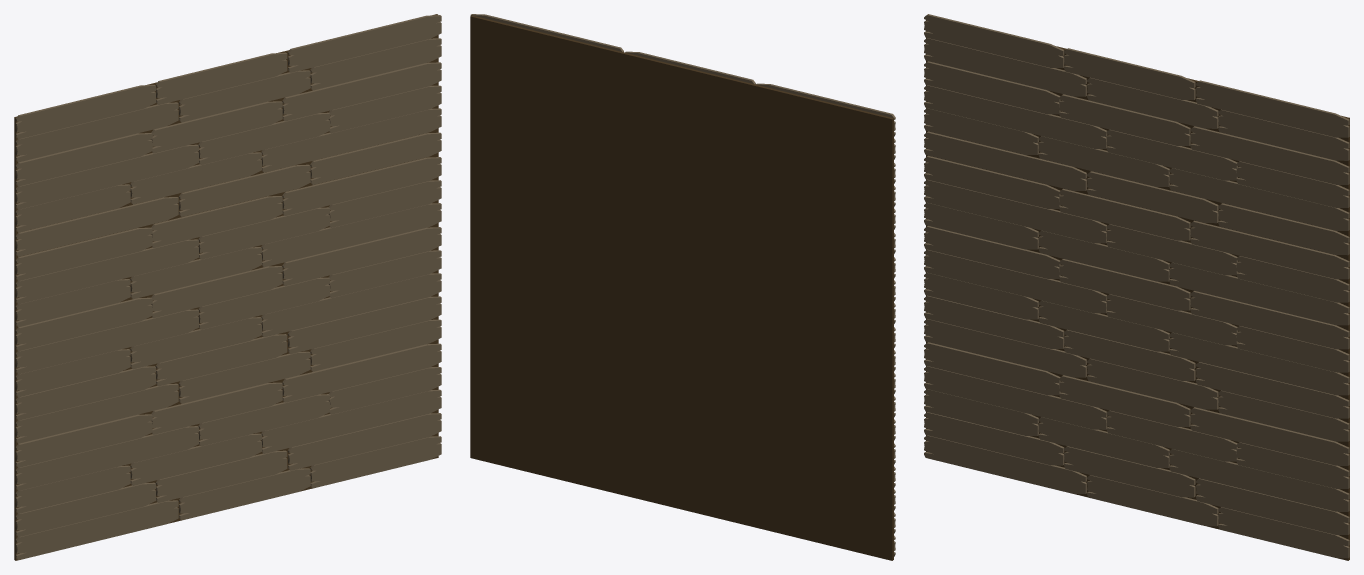
File: Wall.fbx
3 views of the same model, side by side, from view 1: azimuth 30°, elevation 25°; view 2: azimuth 150°, elevation 25°; view 3: azimuth 330°, elevation 25° (orthographic).
Visible parts, largest first — view 1: Finwall; view 2: Finwall; view 3: Finwall.
Boxes of the visible parts, x1,y1,x2,y2 form: Finwall: [14, 14, 441, 560]; Finwall: [470, 14, 895, 560]; Finwall: [924, 14, 1349, 560].
Size of the model in its own units: 19.54 by 19.58 by 0.2509.
